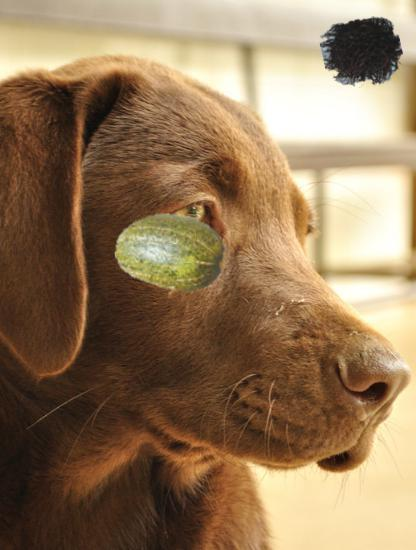Melon: (115, 202, 226, 313)
Rambutan: (323, 14, 403, 94)
